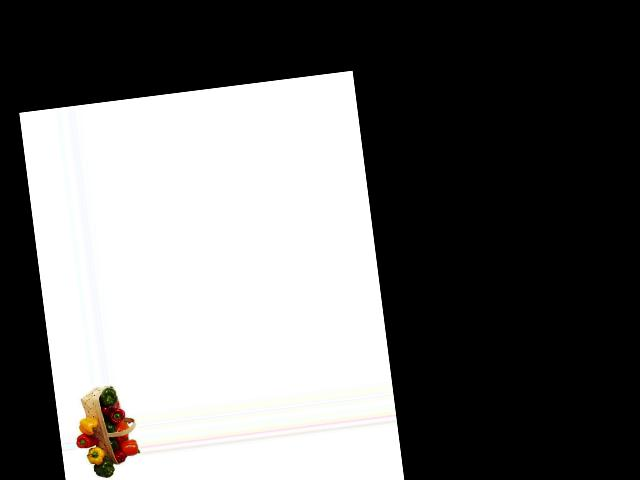bell_pepper: (99, 387, 118, 409)
